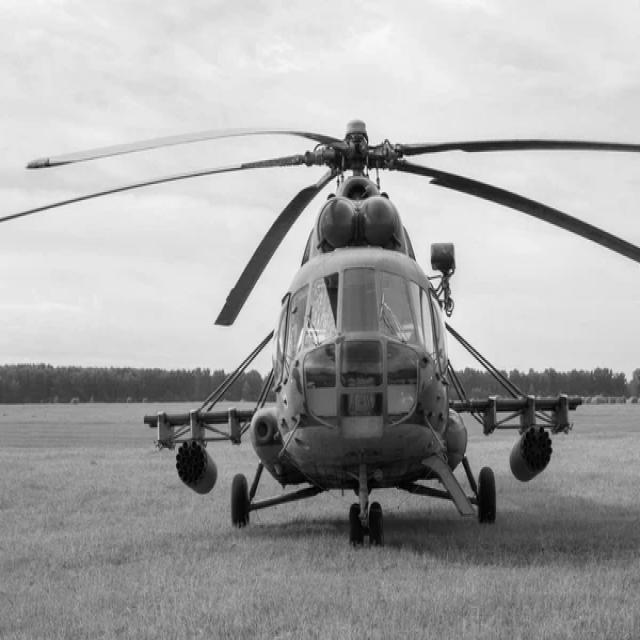Helicopter: (0, 120, 639, 545)
